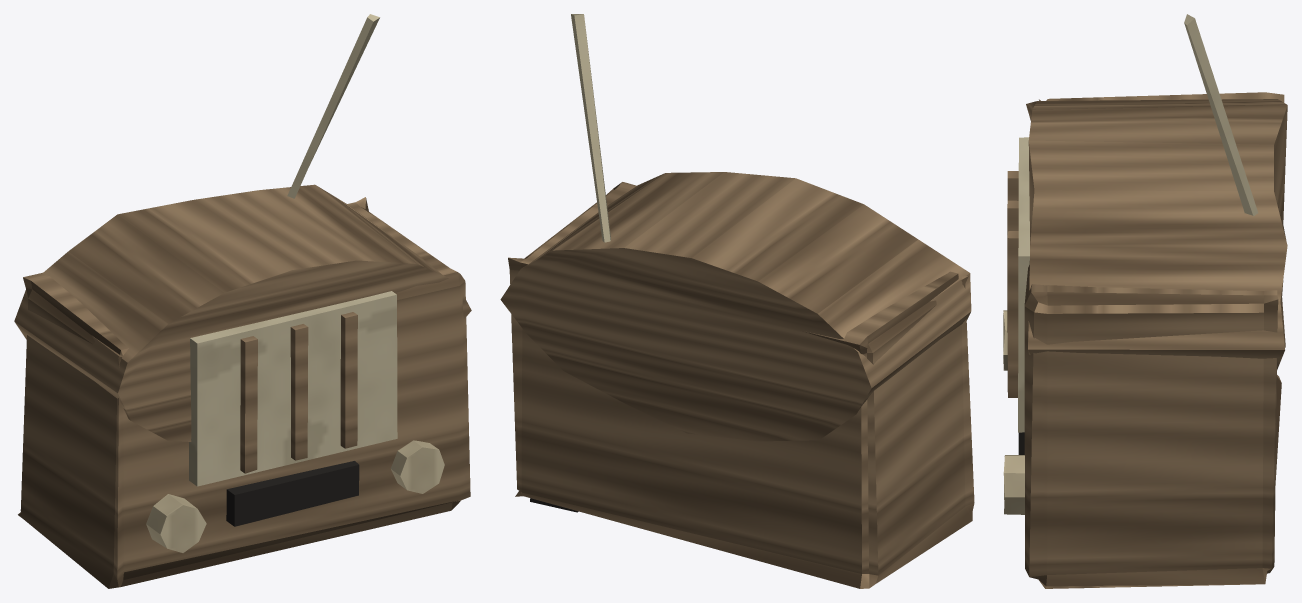
File: old_radio.glb
The picture shows the model from 3 angles, left to right: view 1: azimuth 30°, elevation 25°; view 2: azimuth 150°, elevation 25°; view 3: azimuth 270°, elevation 25°; orthographic projection. The views are drawn at different scales.
Visible parts, largest first — view 1: OldRadio; view 2: OldRadio; view 3: OldRadio.
Boxes of the visible parts, x1=… form: OldRadio: x1=14, y1=14, x2=471, y2=588; OldRadio: x1=500, y1=14, x2=974, y2=588; OldRadio: x1=1003, y1=14, x2=1287, y2=588.
Bounding box in the file's own units: 0.3995 × 0.4896 × 0.2257.
4 materials, 3 textured.
